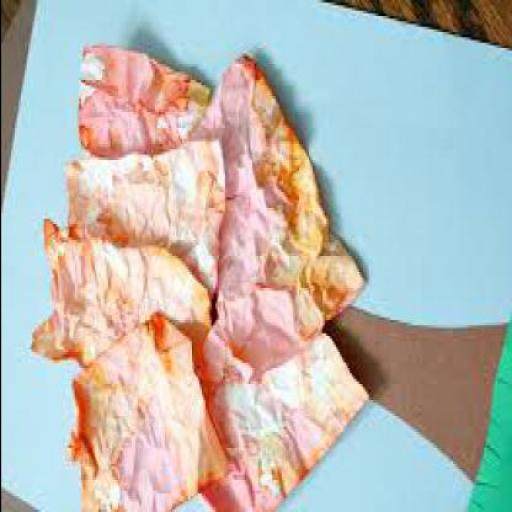paper: (1, 0, 512, 511), (181, 54, 370, 376), (188, 298, 368, 509), (68, 312, 222, 509), (29, 214, 209, 376), (60, 139, 220, 302), (76, 40, 202, 154)
